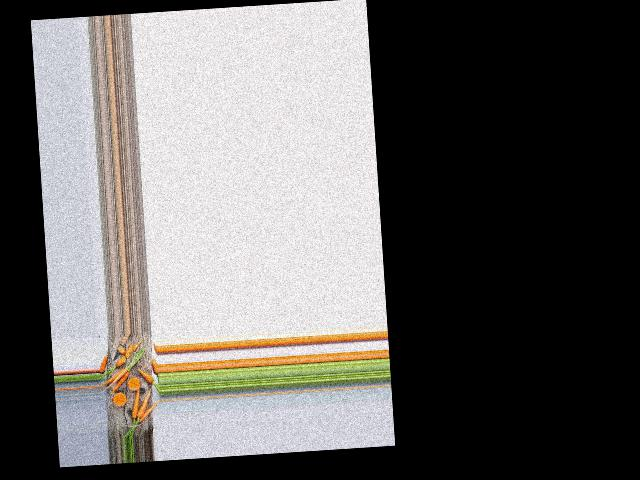carrot: (135, 397, 160, 427)
